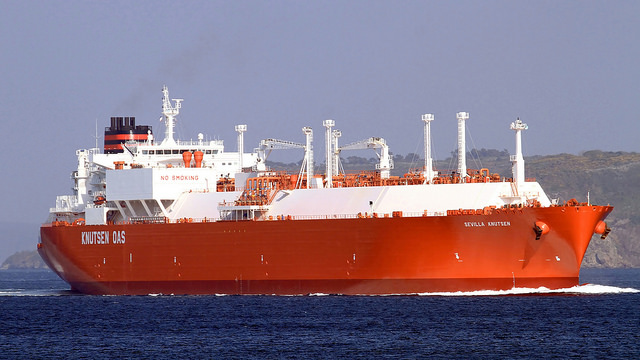LNG_ship: (36, 87, 613, 294)
